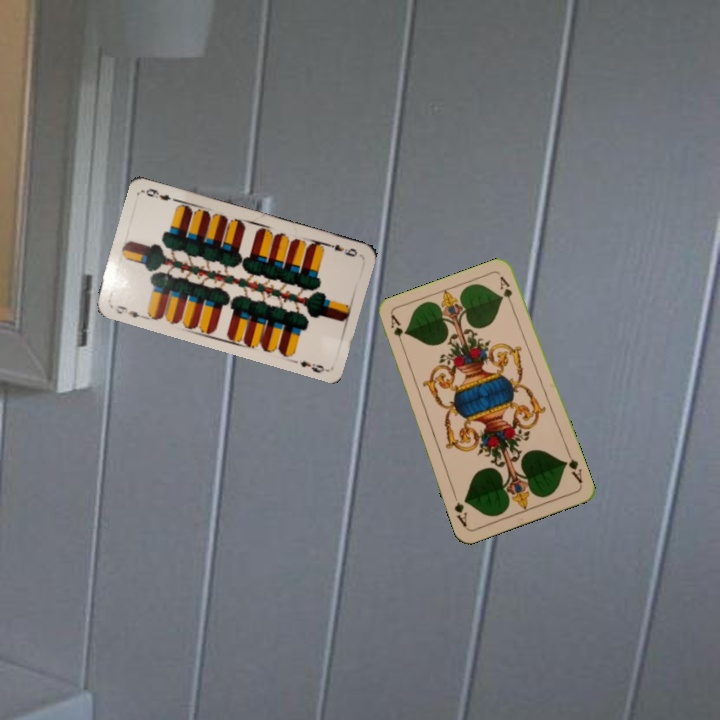E9: (322, 239, 360, 259), (111, 301, 147, 321)
GA: (560, 448, 585, 486), (386, 311, 407, 351)
